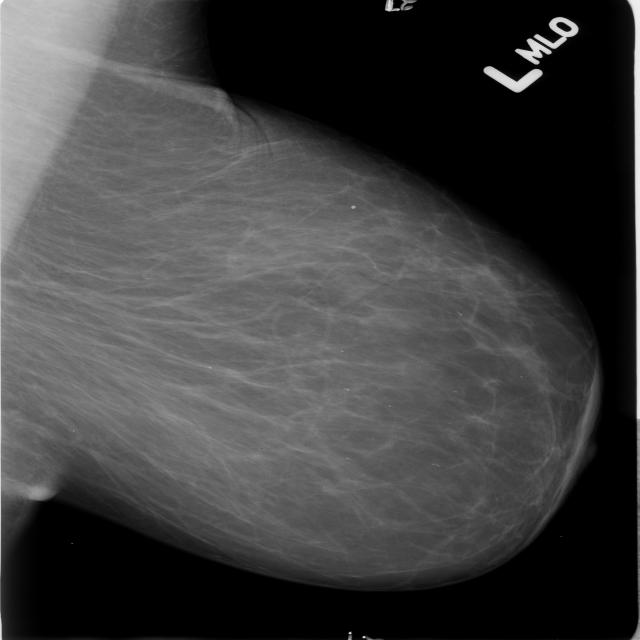normal: (0, 0, 612, 595)
